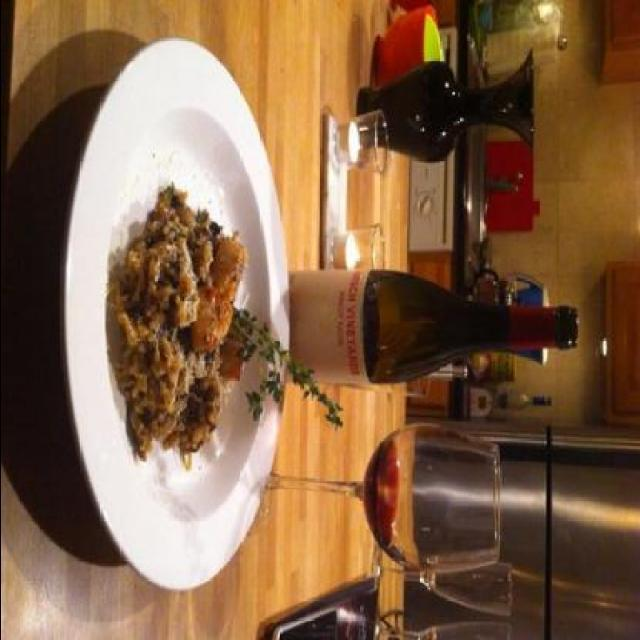Risotto: (120, 214, 249, 466)
